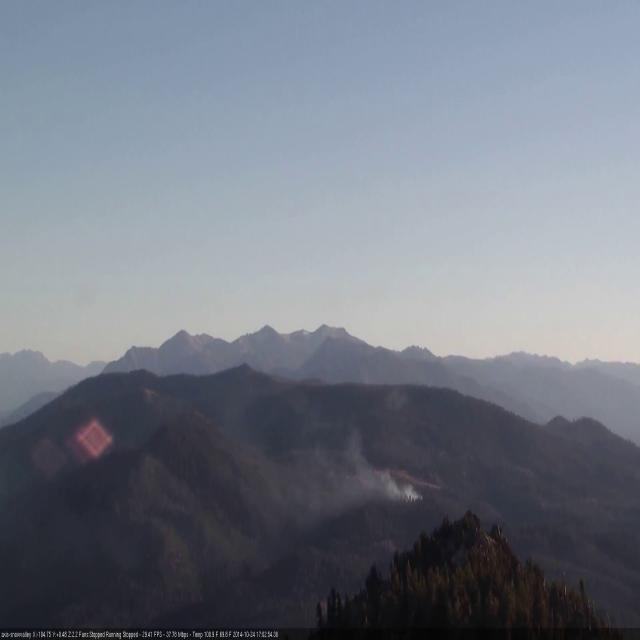smoke: (202, 394, 429, 538)
